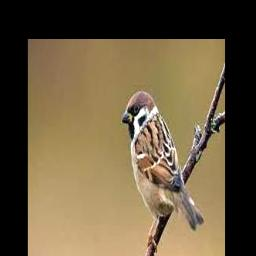Sparrow: (122, 91, 204, 256)
